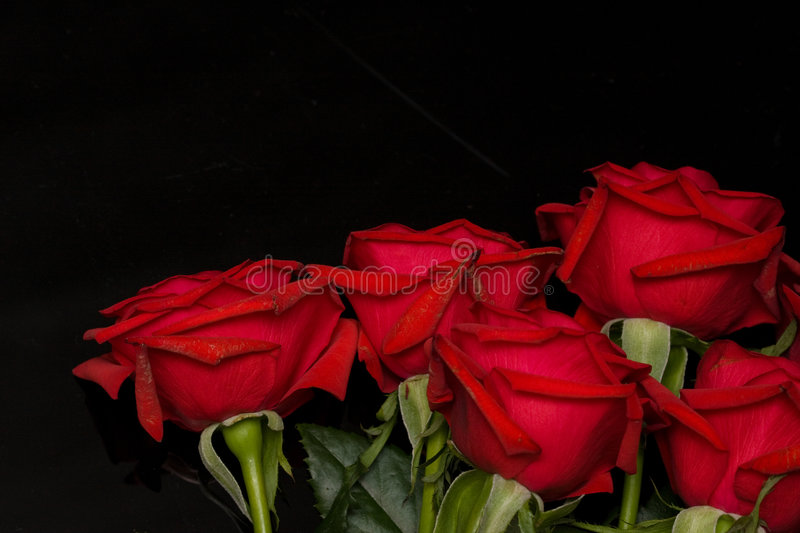RedRose: (80, 265, 361, 423), (553, 169, 783, 340), (471, 332, 629, 486), (672, 361, 800, 506), (375, 234, 514, 345)
